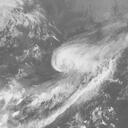cyclone: (51, 39, 101, 74)
